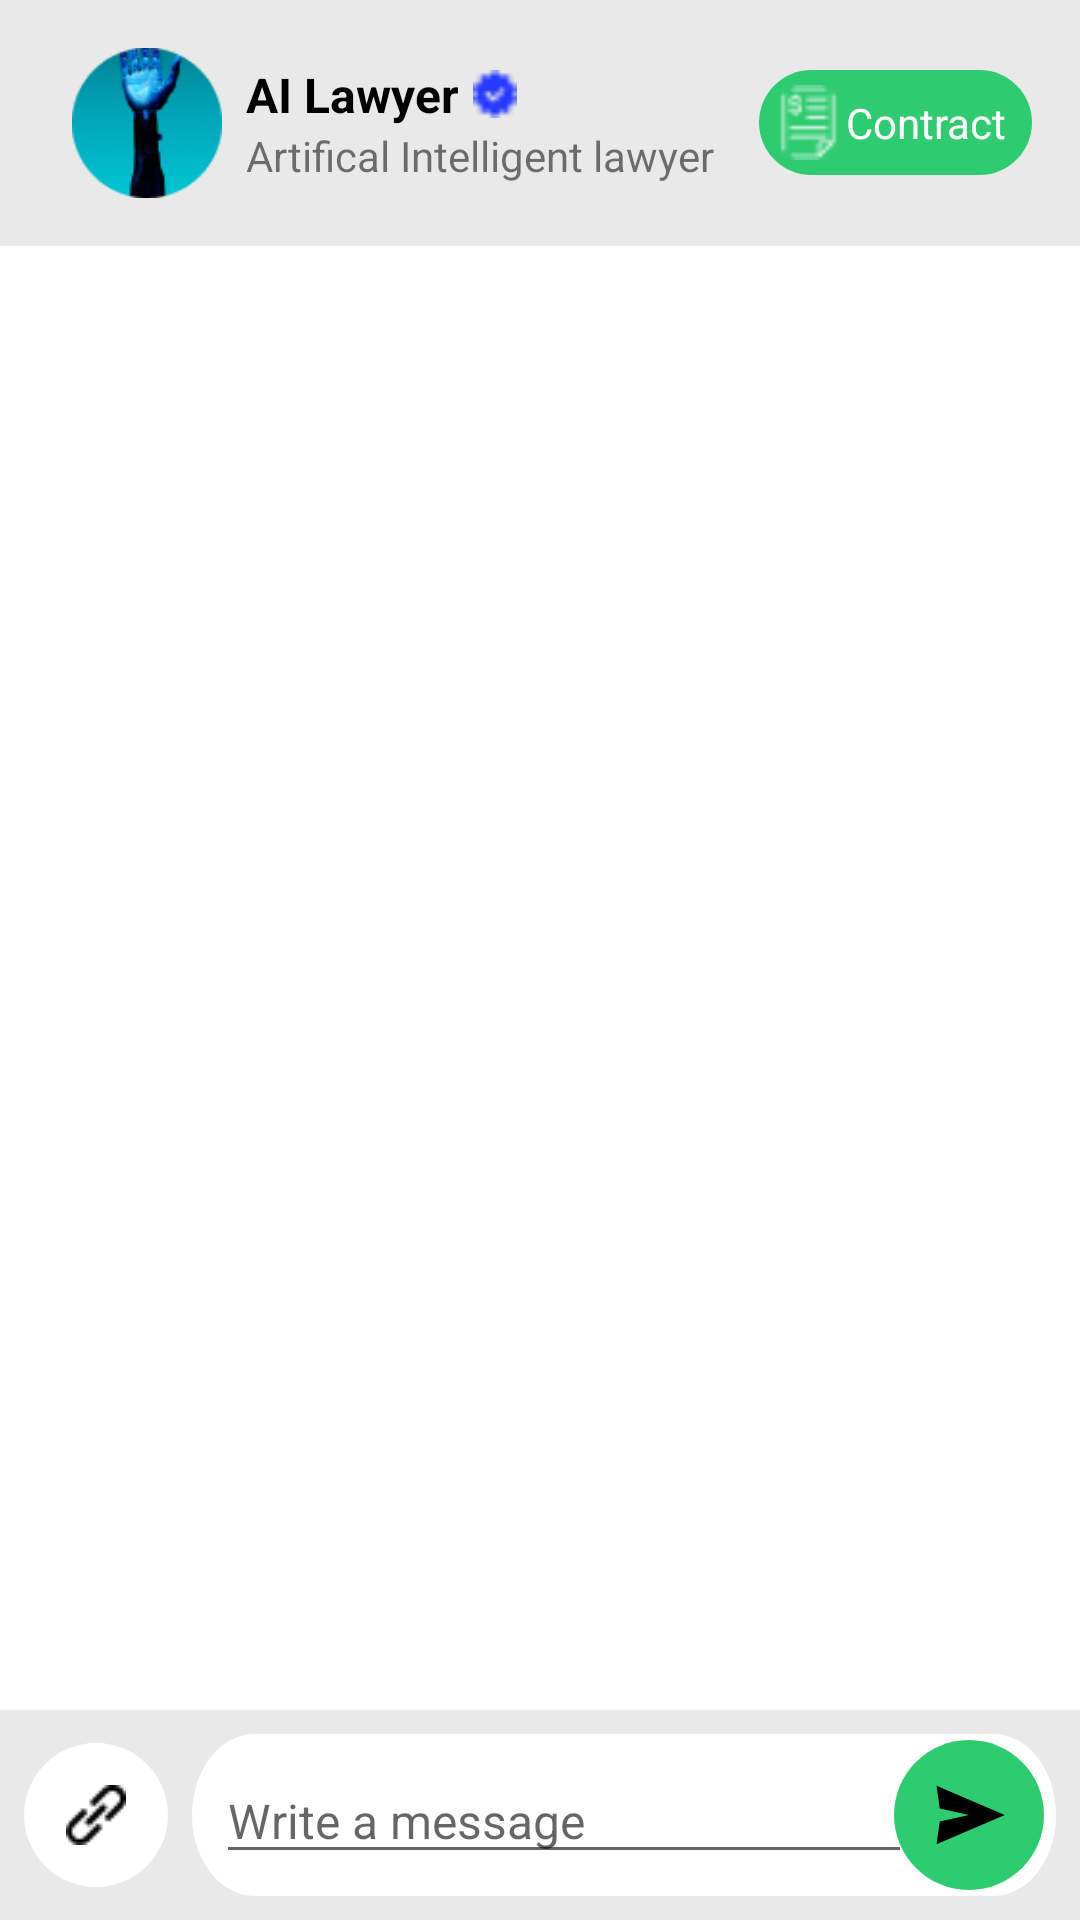

Icon bounding boxes for this 1080*1920 phone screenshot, format {"x1": x1, "y1": y1, "x2": x2, "y2": y2}:
Attach: {"x1": 24, "y1": 1743, "x2": 168, "y2": 1887}
invoice: {"x1": 780, "y1": 85, "x2": 837, "y2": 160}
Profile: {"x1": 72, "y1": 48, "x2": 222, "y2": 198}
Send Icon: {"x1": 894, "y1": 1740, "x2": 1044, "y2": 1890}
Verified: {"x1": 473, "y1": 70, "x2": 517, "y2": 118}
